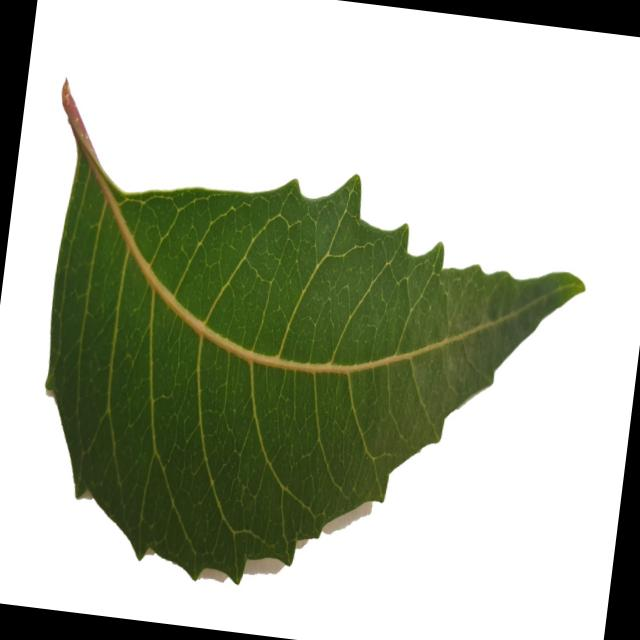Medicinal-Neem: (2, 72, 606, 627)
